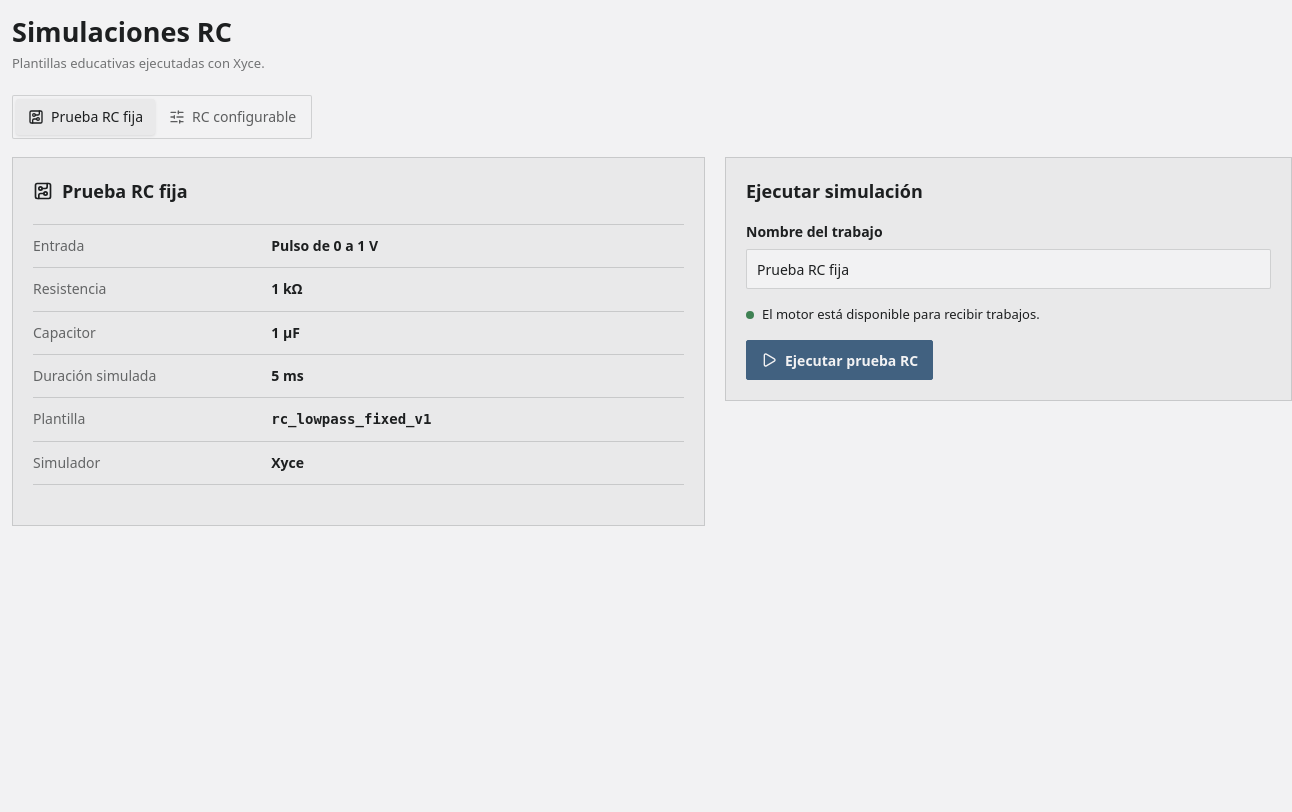
Test: fixed RC simulation › switches to bounded configurable fields and shows normalized values
The width and height of the screenshot is (1292, 812).
Click the tab "RC configurable".
click(233, 117)  # box [157,99,308,135]
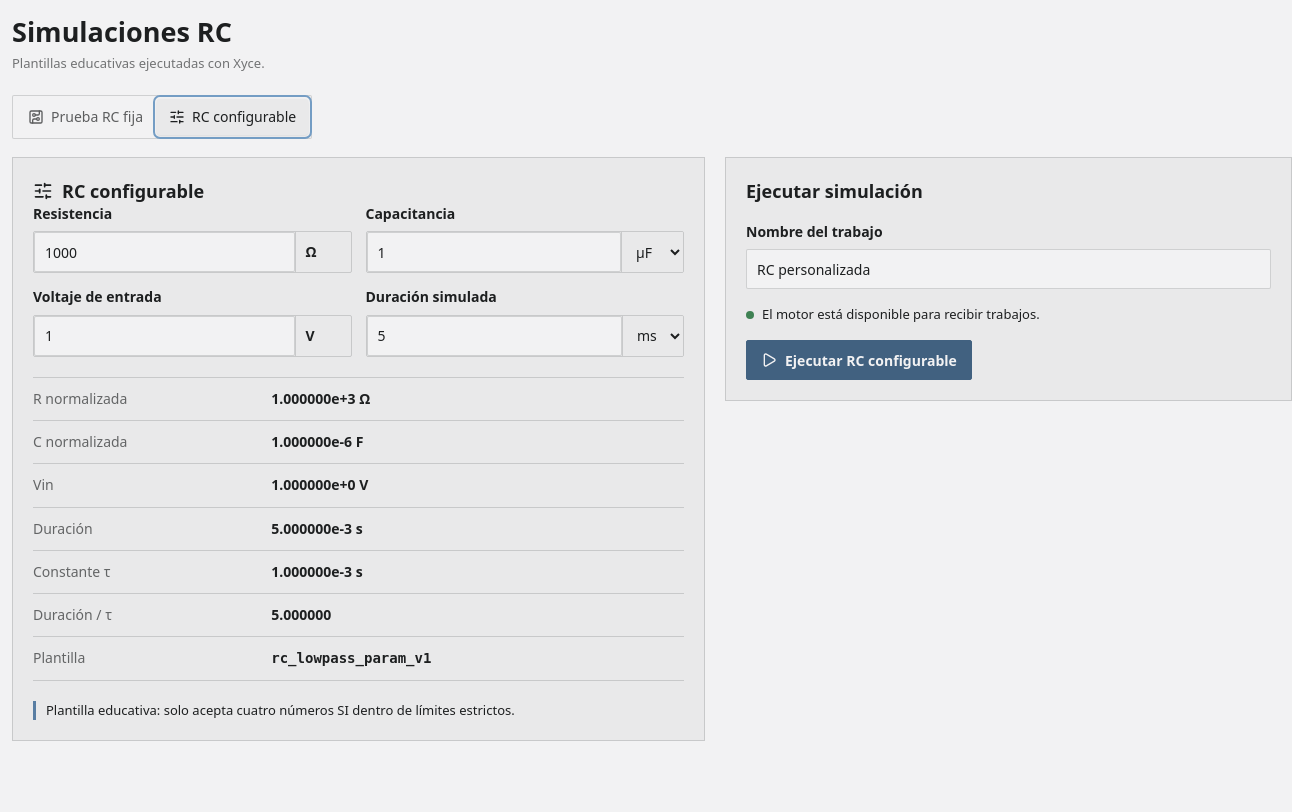
Expected: the heading "RC configurable" is shown, [62,178,204,204]
Expected: the number field labelled "Resistencia" holds "1000", [34,232,294,272]
Expected: the dropdown named "Unidad de Capacitancia" shows "µF", [621,232,683,272]
